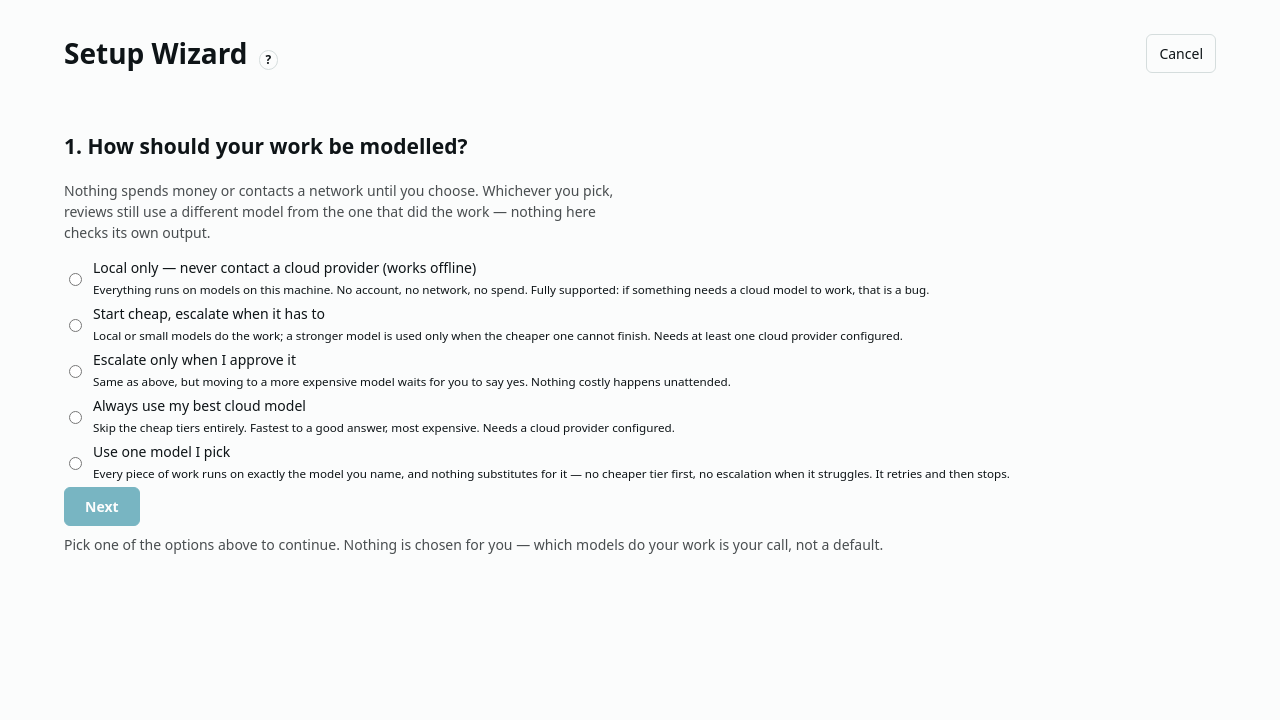
Test: the fifth choice: one model I pick (W12-16) › the model field appears ONLY for the pinned choice — the other four route by matrix
This screenshot has width=1280, height=720.
Click the radio button labelled "Local only".
click(76, 280)  # box [69,273,82,286]
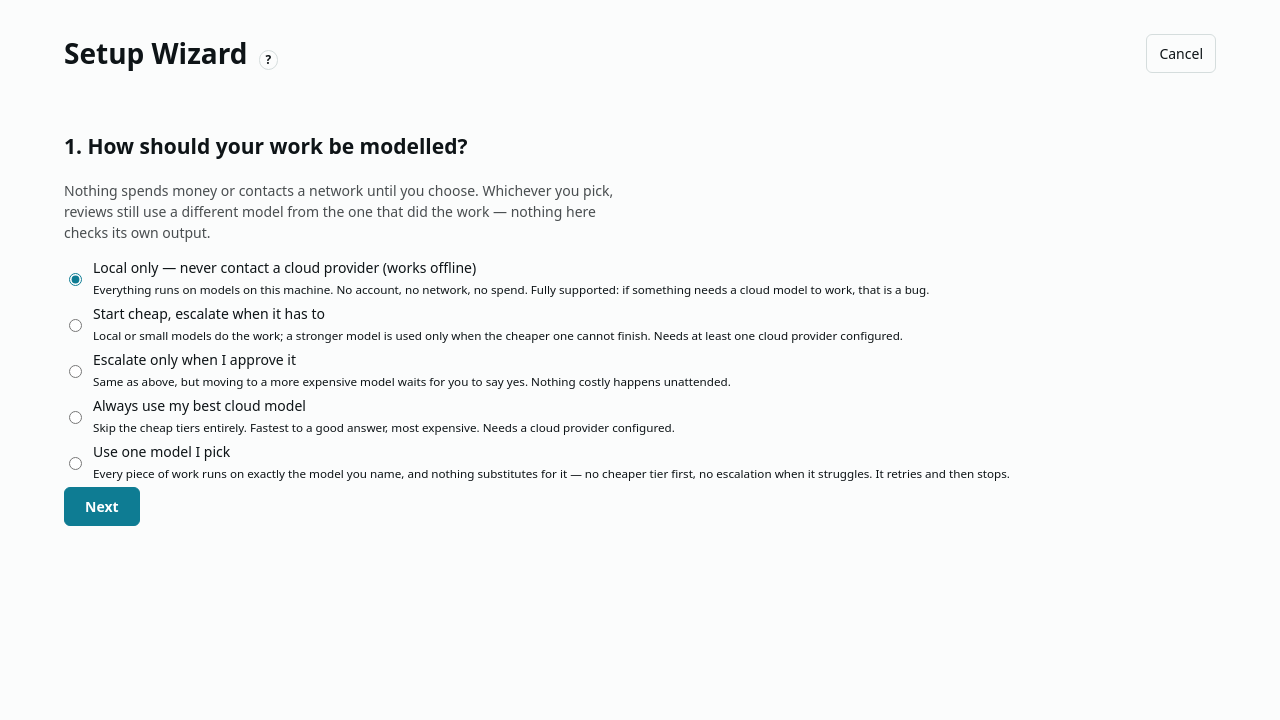
Click the button "Next".
click(102, 507)  # box [64,487,140,526]
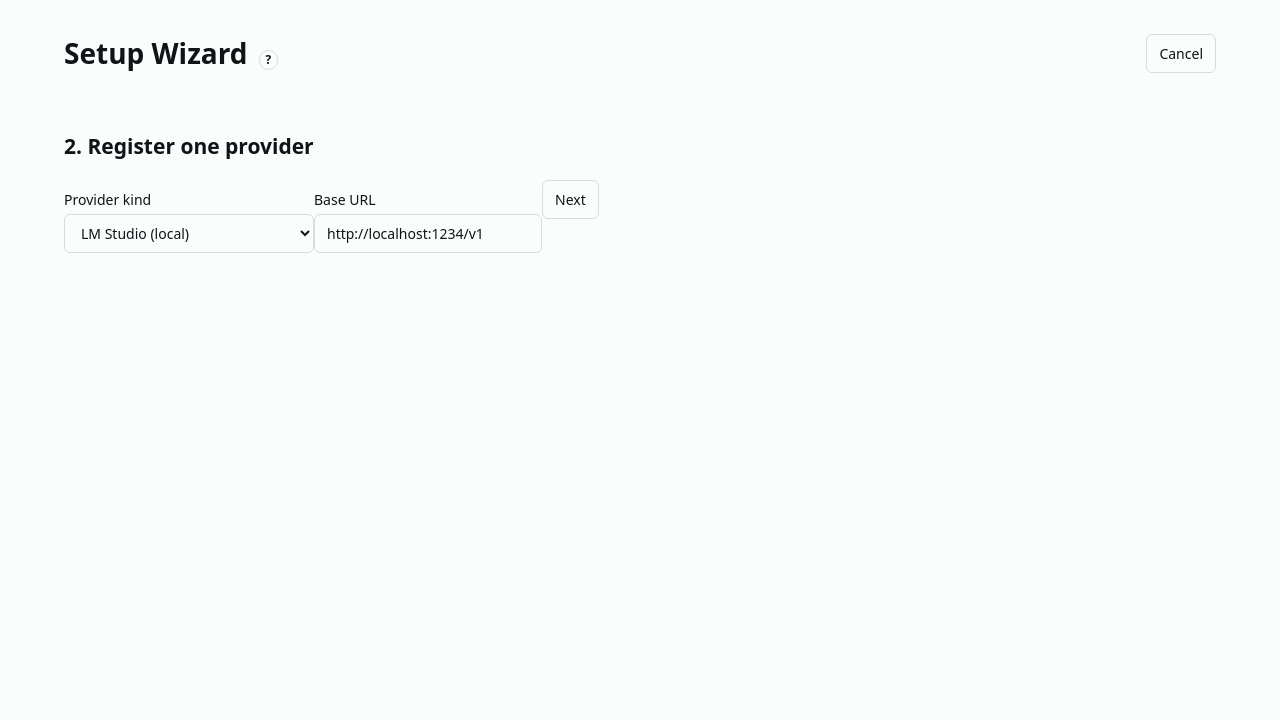
expect the element with test id "wizard-step-provider" is shown: met, box [64,132,599,253]
